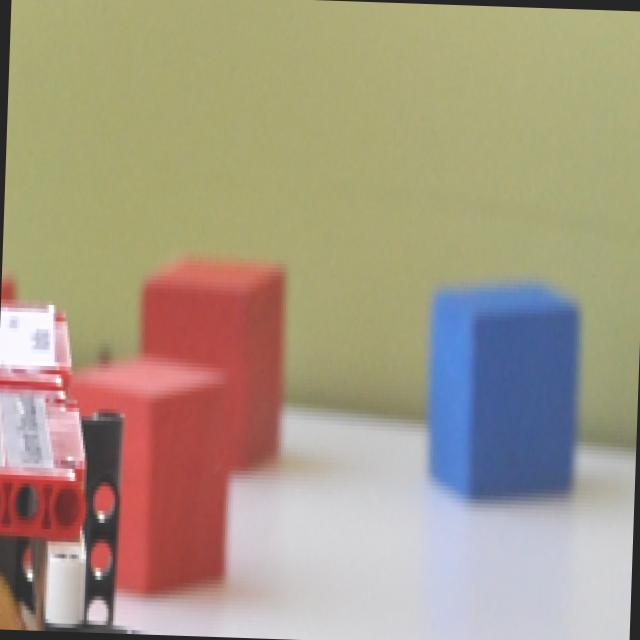bluecube: (428, 278, 581, 500)
red cube: (65, 348, 228, 591), (142, 254, 289, 476)
